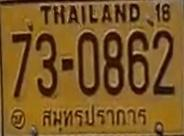0: (77, 32, 99, 95)
2: (152, 30, 174, 93)
3: (35, 32, 57, 96)
6: (127, 30, 148, 94)
7: (11, 33, 31, 95)
8: (103, 32, 123, 94)
SPK: (40, 102, 151, 127)
